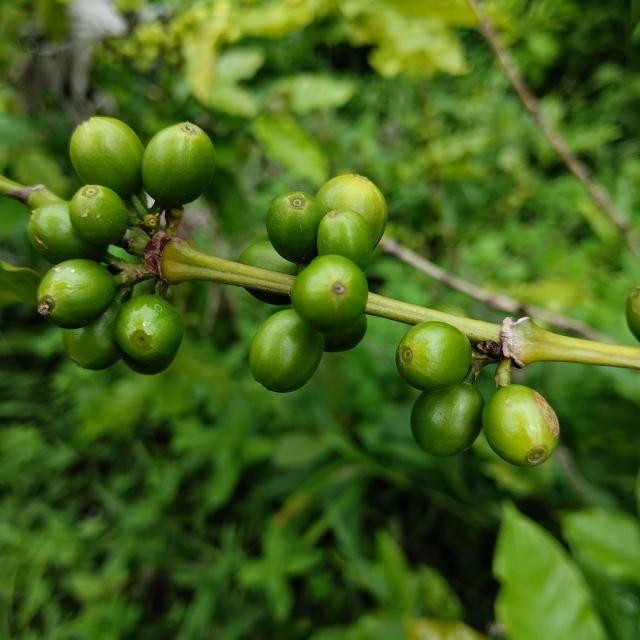green: (249, 309, 325, 393), (483, 385, 560, 467), (69, 116, 144, 198), (141, 122, 215, 205), (291, 255, 369, 333), (411, 382, 486, 457), (315, 174, 388, 249), (37, 259, 115, 329), (396, 321, 472, 392), (27, 200, 106, 264), (114, 295, 183, 364), (266, 191, 325, 264), (62, 301, 123, 370), (68, 185, 128, 245), (317, 209, 374, 271), (238, 241, 299, 275), (121, 352, 176, 375), (245, 288, 291, 305), (627, 286, 640, 341)
